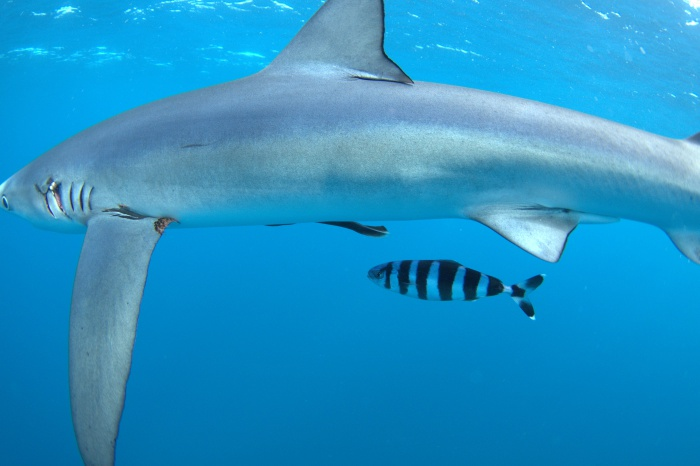Azul: (4, 2, 694, 466)
